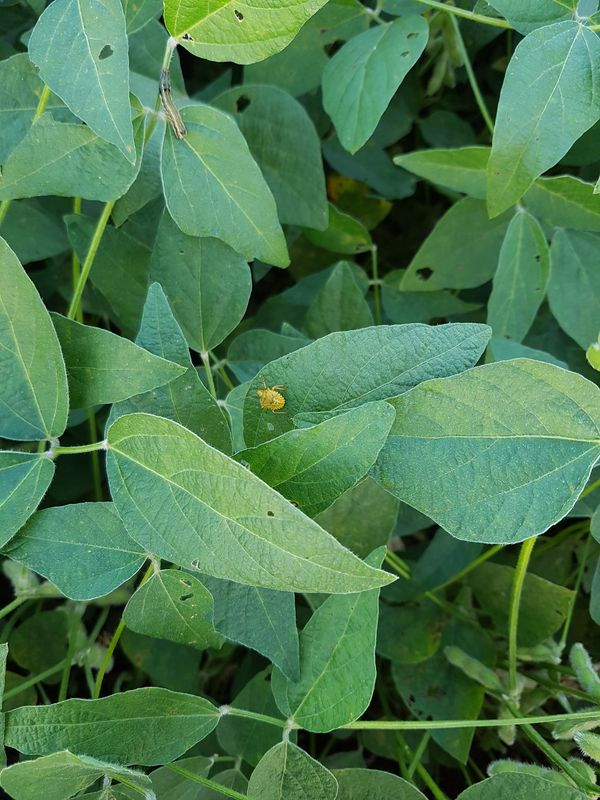Euschistus_heros_ninfa: (246, 375, 294, 419)
Spodoptera_albula: (139, 65, 198, 143)
